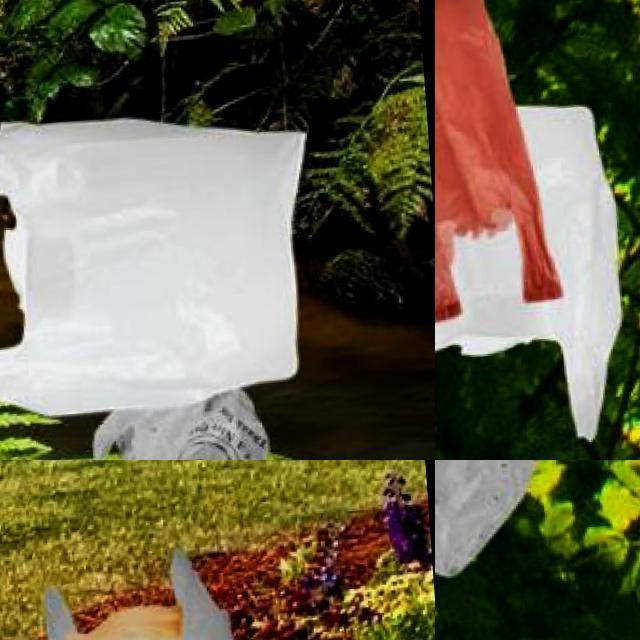waste: (0, 101, 312, 431), (435, 88, 633, 455), (435, 0, 569, 321), (32, 549, 272, 640), (435, 460, 572, 581), (89, 391, 276, 460)
